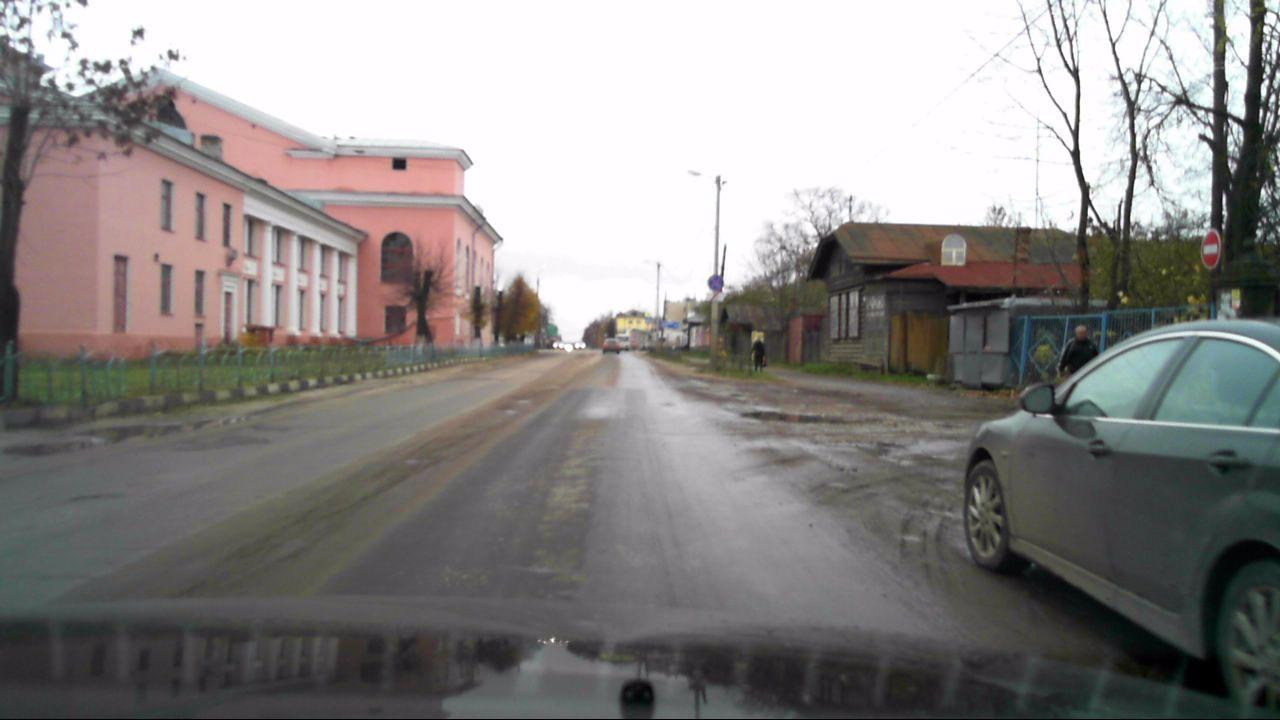road_sign: (1201, 228, 1221, 270), (707, 275, 724, 291)
